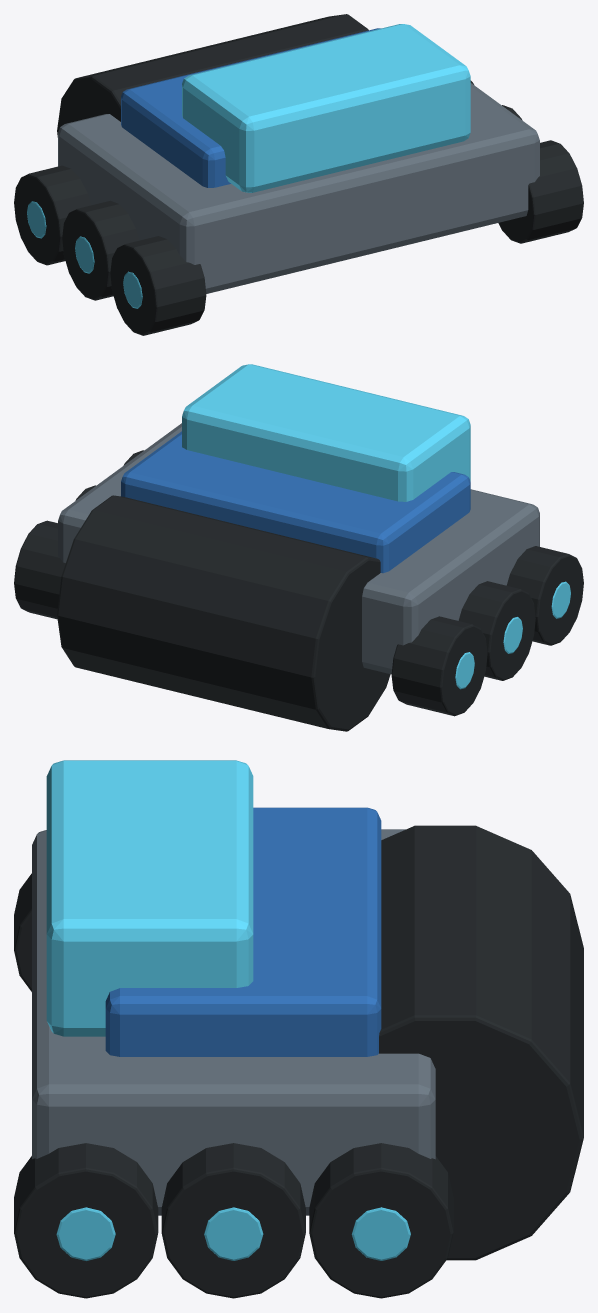
Rendered from SM_Alliance_AL_PioneerHarvester.fbx.
3 views of the same model, one above another, from view 1: azimuth 30°, elevation 25°; view 2: azimuth 150°, elevation 25°; view 3: azimuth 270°, elevation 25° (orthographic). The views are drawn at different scales.
Visible parts, largest first — view 1: SM_Alliance_AL_PioneerHarvester, SM_Alliance_AL_PioneerHarvester_OreBin, SM_Alliance_AL_PioneerHarvester_Excavator, SM_Alliance_AL_PioneerHarvester_Wheel_00, SM_Alliance_AL_PioneerHarvester_UpperHull, SM_Alliance_AL_PioneerHarvester_Wheel_03, SM_Alliance_AL_PioneerHarvester_Wheel_01, SM_Alliance_AL_PioneerHarvester_Wheel_02, SM_Alliance_AL_PioneerHarvester_Hub_00, SM_Alliance_AL_PioneerHarvester_Hub_02, SM_Alliance_AL_PioneerHarvester_Hub_01; view 2: SM_Alliance_AL_PioneerHarvester_Excavator, SM_Alliance_AL_PioneerHarvester_OreBin, SM_Alliance_AL_PioneerHarvester_UpperHull, SM_Alliance_AL_PioneerHarvester, SM_Alliance_AL_PioneerHarvester_Wheel_02, SM_Alliance_AL_PioneerHarvester_Wheel_01, SM_Alliance_AL_PioneerHarvester_Wheel_00, SM_Alliance_AL_PioneerHarvester_Wheel_05, SM_Alliance_AL_PioneerHarvester_Hub_01, SM_Alliance_AL_PioneerHarvester_Hub_02, SM_Alliance_AL_PioneerHarvester_Hub_00; view 3: SM_Alliance_AL_PioneerHarvester_Excavator, SM_Alliance_AL_PioneerHarvester_OreBin, SM_Alliance_AL_PioneerHarvester, SM_Alliance_AL_PioneerHarvester_UpperHull, SM_Alliance_AL_PioneerHarvester_Wheel_05, SM_Alliance_AL_PioneerHarvester_Wheel_03, SM_Alliance_AL_PioneerHarvester_Wheel_04, SM_Alliance_AL_PioneerHarvester_Hub_04, SM_Alliance_AL_PioneerHarvester_Hub_03, SM_Alliance_AL_PioneerHarvester_Hub_05, SM_Alliance_AL_PioneerHarvester_Wheel_00.
Boxes of the visible parts, left/top/right/bottom form: SM_Alliance_AL_PioneerHarvester: left=58, top=83, right=539, bottom=293; SM_Alliance_AL_PioneerHarvester_OreBin: left=182, top=24, right=470, bottom=192; SM_Alliance_AL_PioneerHarvester_Excavator: left=57, top=14, right=368, bottom=137; SM_Alliance_AL_PioneerHarvester_Wheel_00: left=110, top=236, right=206, bottom=335; SM_Alliance_AL_PioneerHarvester_UpperHull: left=121, top=28, right=380, bottom=187; SM_Alliance_AL_PioneerHarvester_Wheel_03: left=498, top=140, right=583, bottom=243; SM_Alliance_AL_PioneerHarvester_Wheel_01: left=62, top=200, right=139, bottom=300; SM_Alliance_AL_PioneerHarvester_Wheel_02: left=14, top=165, right=90, bottom=265; SM_Alliance_AL_PioneerHarvester_Hub_00: left=123, top=271, right=142, bottom=308; SM_Alliance_AL_PioneerHarvester_Hub_02: left=27, top=201, right=46, bottom=238; SM_Alliance_AL_PioneerHarvester_Hub_01: left=75, top=236, right=94, bottom=273; SM_Alliance_AL_PioneerHarvester_Excavator: left=57, top=495, right=390, bottom=731; SM_Alliance_AL_PioneerHarvester_OreBin: left=182, top=364, right=470, bottom=501; SM_Alliance_AL_PioneerHarvester_UpperHull: left=121, top=431, right=470, bottom=573; SM_Alliance_AL_PioneerHarvester: left=58, top=423, right=539, bottom=674; SM_Alliance_AL_PioneerHarvester_Wheel_02: left=391, top=616, right=487, bottom=716; SM_Alliance_AL_PioneerHarvester_Wheel_01: left=458, top=581, right=535, bottom=680; SM_Alliance_AL_PioneerHarvester_Wheel_00: left=506, top=546, right=583, bottom=645; SM_Alliance_AL_PioneerHarvester_Wheel_05: left=14, top=520, right=65, bottom=619; SM_Alliance_AL_PioneerHarvester_Hub_01: left=503, top=617, right=522, bottom=653; SM_Alliance_AL_PioneerHarvester_Hub_02: left=455, top=652, right=474, bottom=689; SM_Alliance_AL_PioneerHarvester_Hub_00: left=551, top=581, right=570, bottom=618; SM_Alliance_AL_PioneerHarvester_Excavator: left=379, top=825, right=583, bottom=1260; SM_Alliance_AL_PioneerHarvester_OreBin: left=46, top=760, right=253, bottom=1036; SM_Alliance_AL_PioneerHarvester: left=32, top=829, right=435, bottom=1215; SM_Alliance_AL_PioneerHarvester_UpperHull: left=105, top=807, right=381, bottom=1056; SM_Alliance_AL_PioneerHarvester_Wheel_05: left=309, top=1143, right=453, bottom=1298; SM_Alliance_AL_PioneerHarvester_Wheel_03: left=14, top=1143, right=158, bottom=1298; SM_Alliance_AL_PioneerHarvester_Wheel_04: left=161, top=1143, right=305, bottom=1298; SM_Alliance_AL_PioneerHarvester_Hub_04: left=204, top=1207, right=263, bottom=1260; SM_Alliance_AL_PioneerHarvester_Hub_03: left=56, top=1207, right=115, bottom=1260; SM_Alliance_AL_PioneerHarvester_Hub_05: left=351, top=1207, right=410, bottom=1260; SM_Alliance_AL_PioneerHarvester_Wheel_00: left=14, top=873, right=31, bottom=991.
Size of what is drawn, in the model's own units: 541 by 405 by 255.
